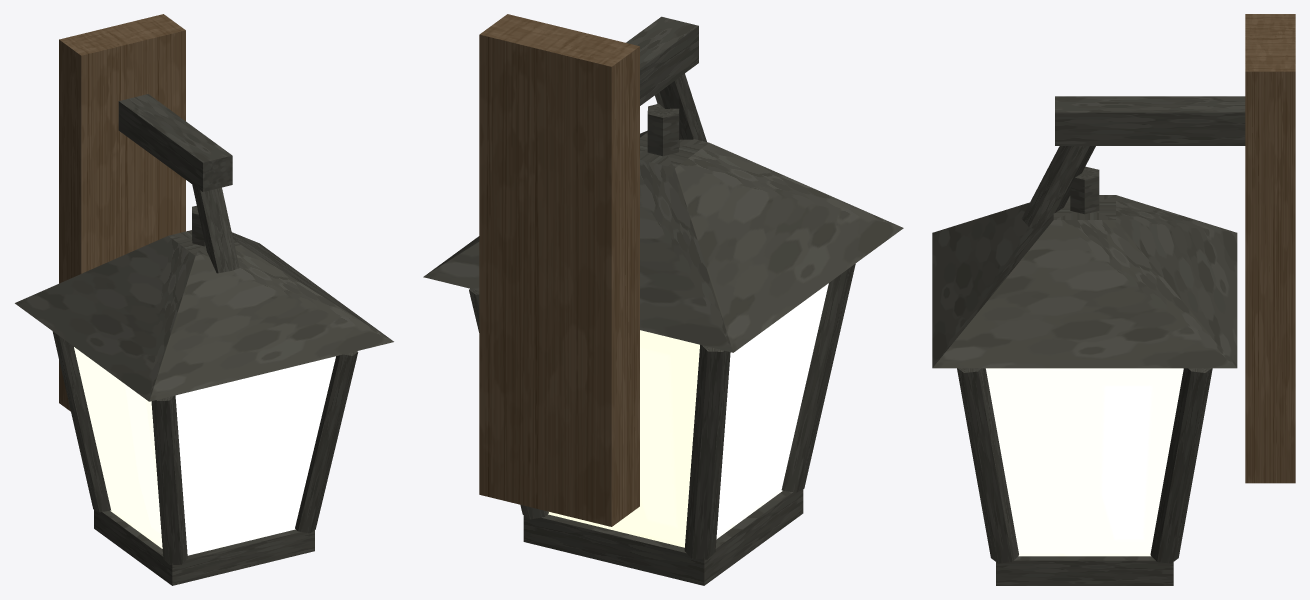
Rendered from lamp_wall.glb.
The picture shows the model from 3 angles, left to right: view 1: azimuth 30°, elevation 25°; view 2: azimuth 150°, elevation 25°; view 3: azimuth 270°, elevation 25°; orthographic projection. The views are drawn at different scales.
Visible parts, largest first — view 1: outdoor_lamp_wall; view 2: outdoor_lamp_wall; view 3: outdoor_lamp_wall.
Part boxes in pixels (x1,y1,x2,y2): outdoor_lamp_wall: (15,14,393,585); outdoor_lamp_wall: (423,14,903,585); outdoor_lamp_wall: (932,14,1295,585).
Bounding box in the file's own units: 0.3 × 0.52 × 0.34.
Materials: 2 (2 with a texture image).
